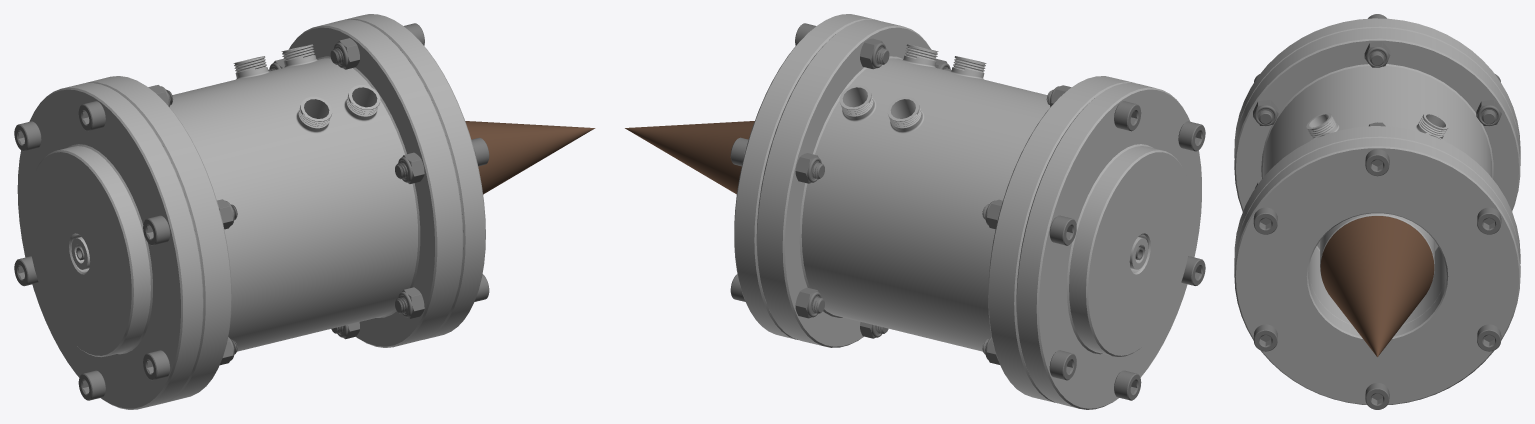
The model's file is RDE_MASTER_ASSEMBLY_09-26-23.glb.
The picture shows the model from 3 angles, left to right: view 1: azimuth 30°, elevation 25°; view 2: azimuth 150°, elevation 25°; view 3: azimuth 270°, elevation 25°; orthographic projection. The views are drawn at different scales.
Parts seen in each view (by area): view 1: Solid1 (×11), Solid2 (×3); view 2: Solid1 (×11), Solid2 (×3); view 3: Solid1 (×11), Solid2 (×3).
Part boxes in pixels (bbox=[...]): Solid1 (×11): bbox=[14, 14, 595, 409]; Solid2 (×3): bbox=[333, 38, 424, 318]; Solid1 (×11): bbox=[625, 14, 1205, 409]; Solid2 (×3): bbox=[795, 38, 886, 318]; Solid1 (×11): bbox=[1234, 18, 1520, 409]; Solid2 (×3): bbox=[1253, 41, 1501, 126].
Size of the model in its own units: 0.1828 by 0.1012 by 0.1012.
